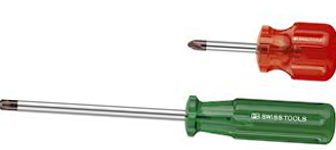screwdriver: (4, 82, 335, 148)
